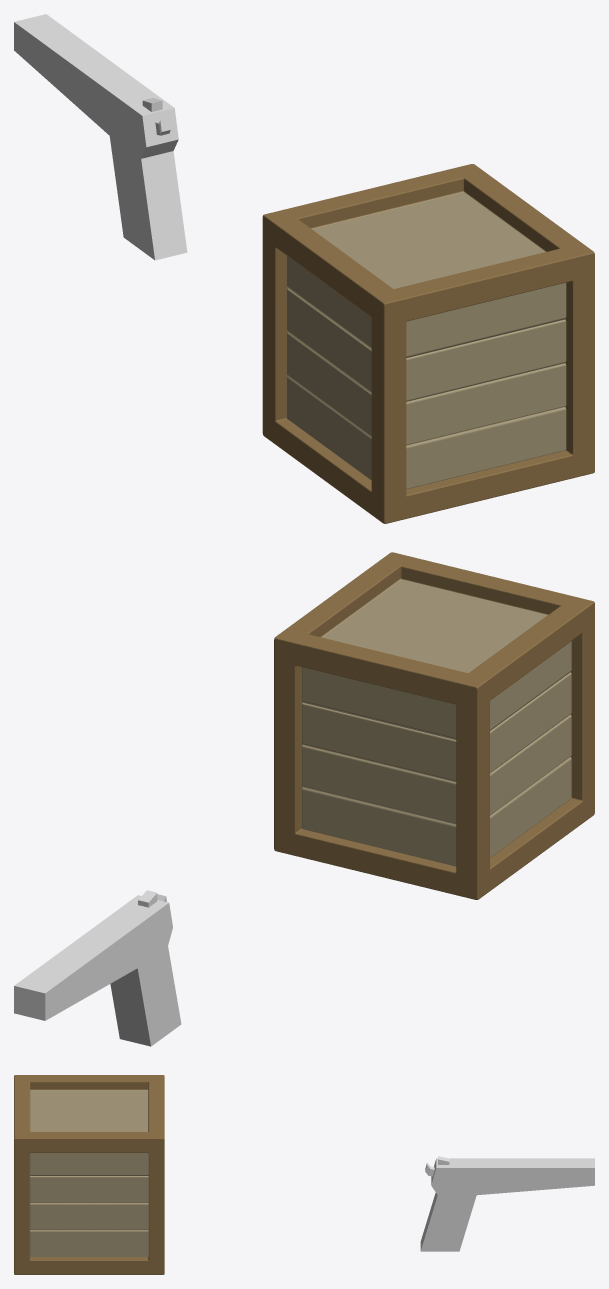
Rendered from GunCrate.fbx.
3 views of the same model, one above another, from view 1: azimuth 30°, elevation 25°; view 2: azimuth 150°, elevation 25°; view 3: azimuth 270°, elevation 25° (orthographic). The views are drawn at different scales.
Visible parts, largest first — view 1: Cube, Plane.001; view 2: Cube, Plane.001; view 3: Cube, Plane.001.
Boxes of the visible parts, left/top/right/bottom form: Cube: left=262, top=164, right=594, bottom=523; Plane.001: left=14, top=14, right=187, bottom=260; Cube: left=274, top=552, right=594, bottom=899; Plane.001: left=14, top=890, right=181, bottom=1046; Cube: left=14, top=1075, right=164, bottom=1274; Plane.001: left=420, top=1156, right=594, bottom=1251.
Size of the model in its own units: 40 by 40.15 by 154.
